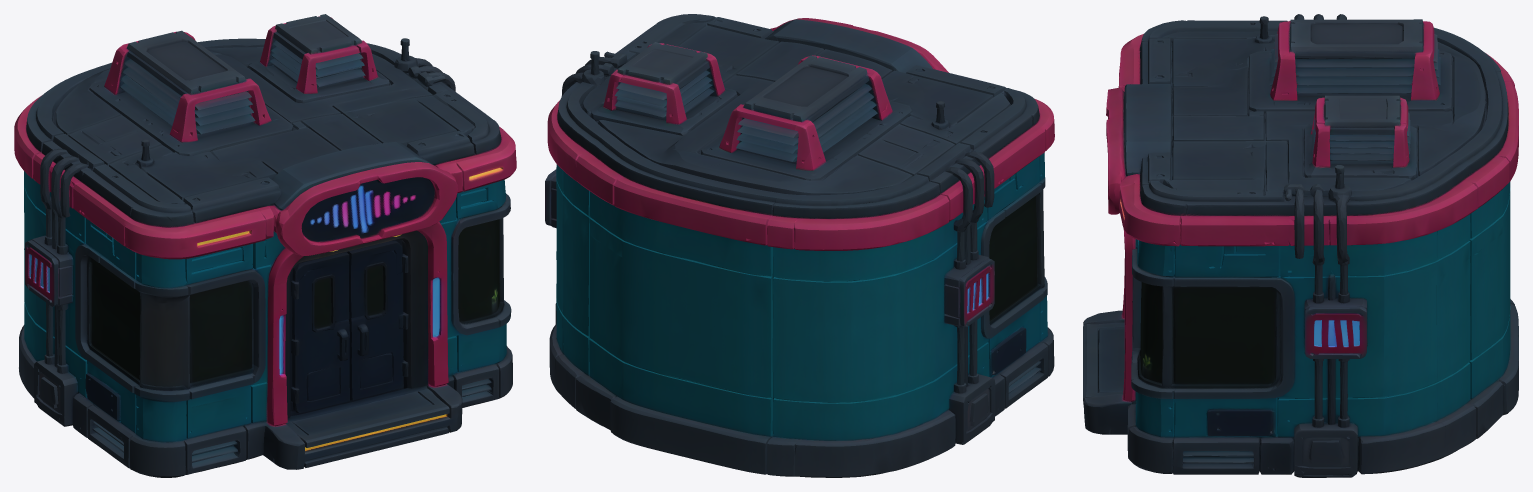
Rendered from source.glb.
3 renders of one model, left to right at view 1: azimuth 30°, elevation 25°; view 2: azimuth 150°, elevation 25°; view 3: azimuth 270°, elevation 25°, orthographic. The views are drawn at different scales.
Parts seen in each view (by area): view 1: model; view 2: model; view 3: model.
Part boxes in pixels (box(x1,y1,x2,y2)): model: box(14, 14, 516, 477); model: box(545, 14, 1054, 477); model: box(1083, 14, 1518, 477).
Size of the model in its own units: 1.9 by 1.41 by 1.7.
Materials: 1 (1 with a texture image).
